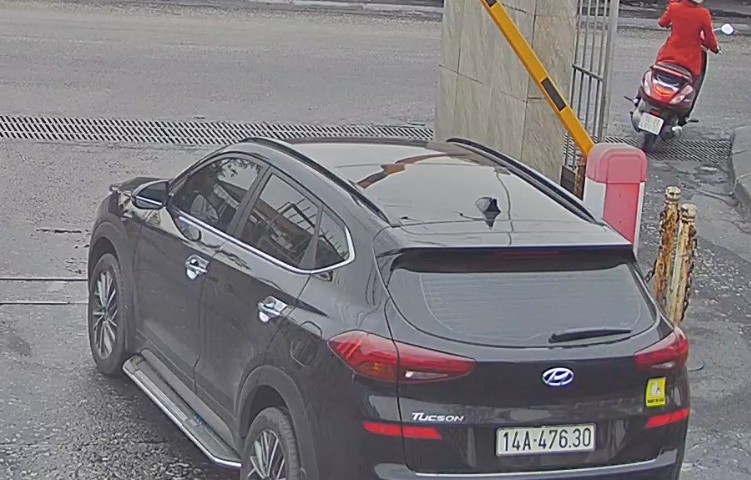vehicle plate: (484, 424, 598, 457)
